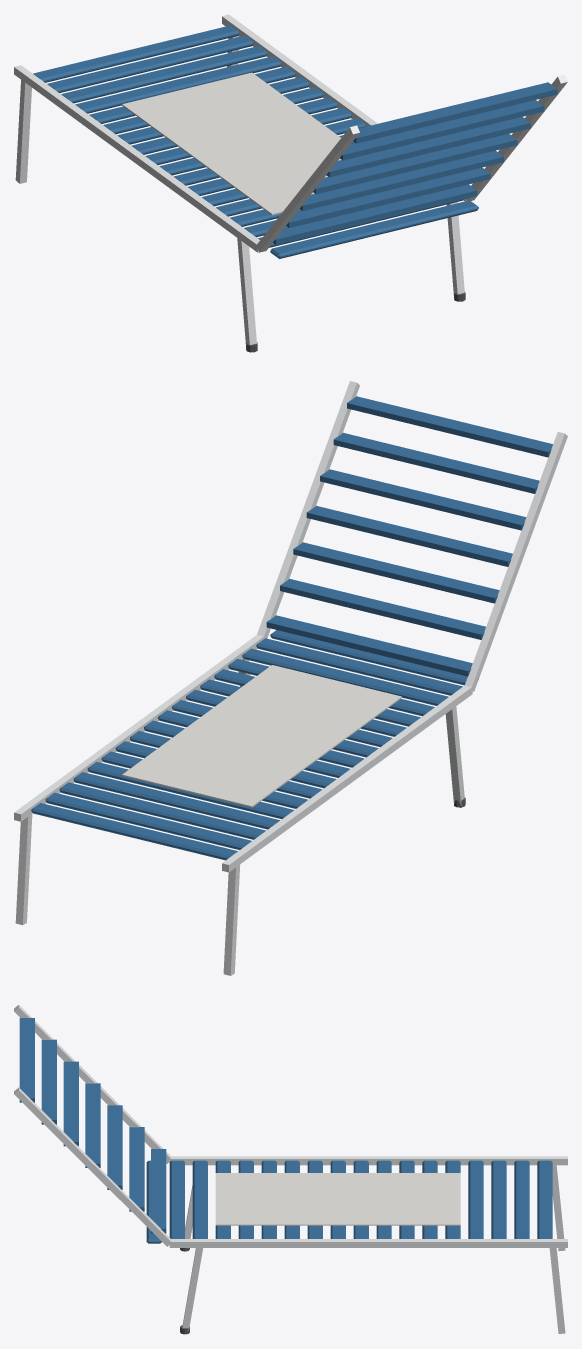
File: espreguicadeira.glb
3 views of the same model, one above another, from view 1: azimuth 30°, elevation 25°; view 2: azimuth 150°, elevation 25°; view 3: azimuth 270°, elevation 25° (orthographic). The views are drawn at different scales.
Visible parts, largest first — view 1: espreguicadeira_vinil_azul, espreguicadeira_lona_listrada, espreguicadeira_aco_polido; view 2: espreguicadeira_vinil_azul, espreguicadeira_lona_listrada, espreguicadeira_aco_polido; view 3: espreguicadeira_vinil_azul, espreguicadeira_lona_listrada, espreguicadeira_aco_polido.
Boxes of the visible parts, bbox=[...] form: espreguicadeira_vinil_azul: bbox=[33, 25, 557, 258]; espreguicadeira_lona_listrada: bbox=[122, 72, 341, 215]; espreguicadeira_aco_polido: bbox=[14, 14, 567, 344]; espreguicadeira_vinil_azul: bbox=[31, 396, 552, 860]; espreguicadeira_lona_listrada: bbox=[122, 665, 401, 807]; espreguicadeira_aco_polido: bbox=[14, 381, 567, 975]; espreguicadeira_vinil_azul: bbox=[19, 1018, 552, 1243]; espreguicadeira_lona_listrada: bbox=[215, 1173, 460, 1225]; espreguicadeira_aco_polido: bbox=[14, 1005, 567, 1334].
Bounding box in the file's own units: 0.672 × 0.8791 × 1.81.
